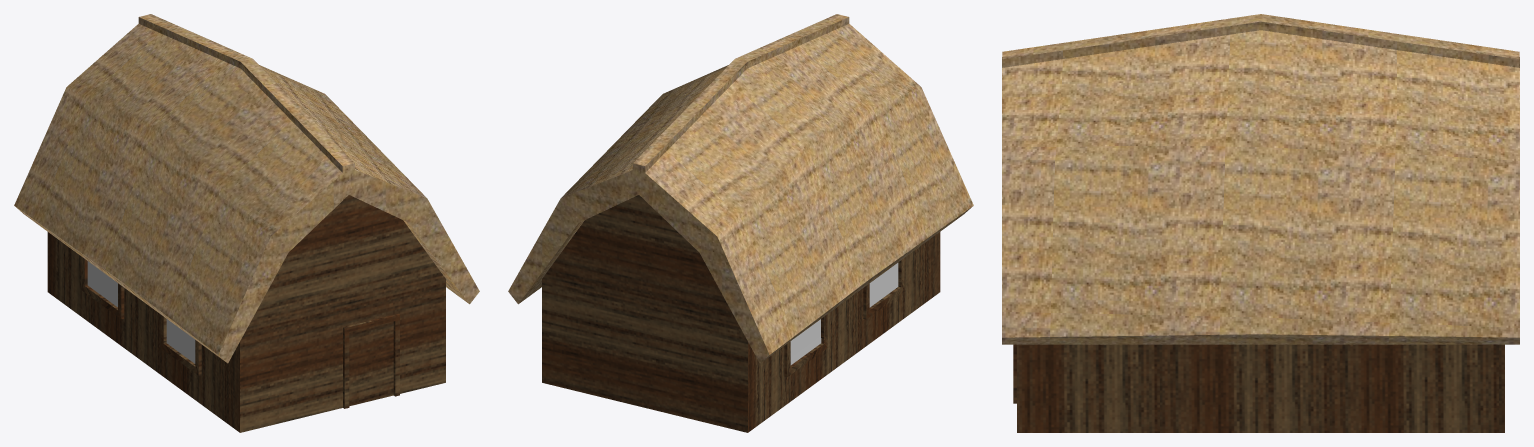
File: Casa1.fbx
3 renders of one model, left to right at view 1: azimuth 30°, elevation 25°; view 2: azimuth 150°, elevation 25°; view 3: azimuth 270°, elevation 25°, orthographic. The views are drawn at different scales.
Visible parts, largest first — view 1: polySurface110; view 2: polySurface110; view 3: polySurface110.
Part boxes in pixels (x1=…): polySurface110: x1=14, y1=14, x2=479, y2=432; polySurface110: x1=508, y1=14, x2=973, y2=432; polySurface110: x1=1002, y1=14, x2=1519, y2=432.
Bounding box in the file's own units: 7.1 × 7.18 × 9.59.
6 materials, 5 textured.
